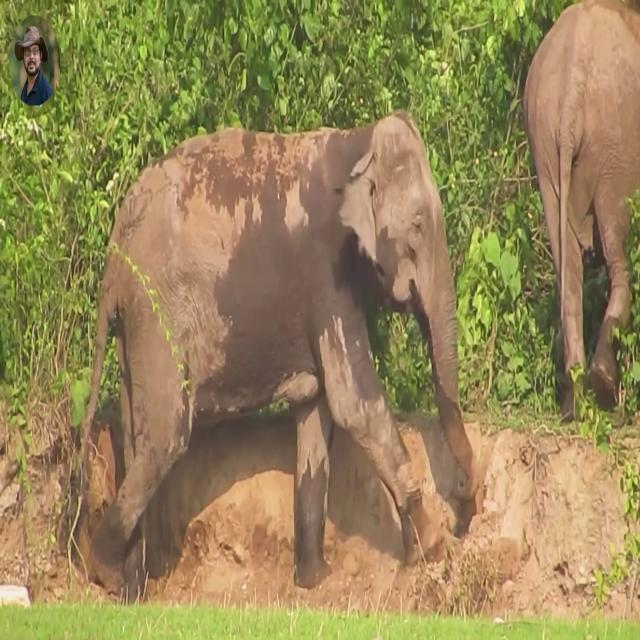Elephant: (65, 108, 479, 603), (521, 0, 639, 424)
